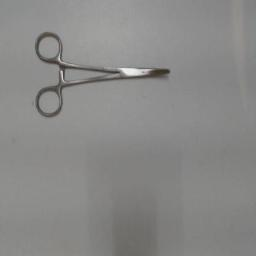Crile Artery Forceps: (34, 26, 176, 118)
